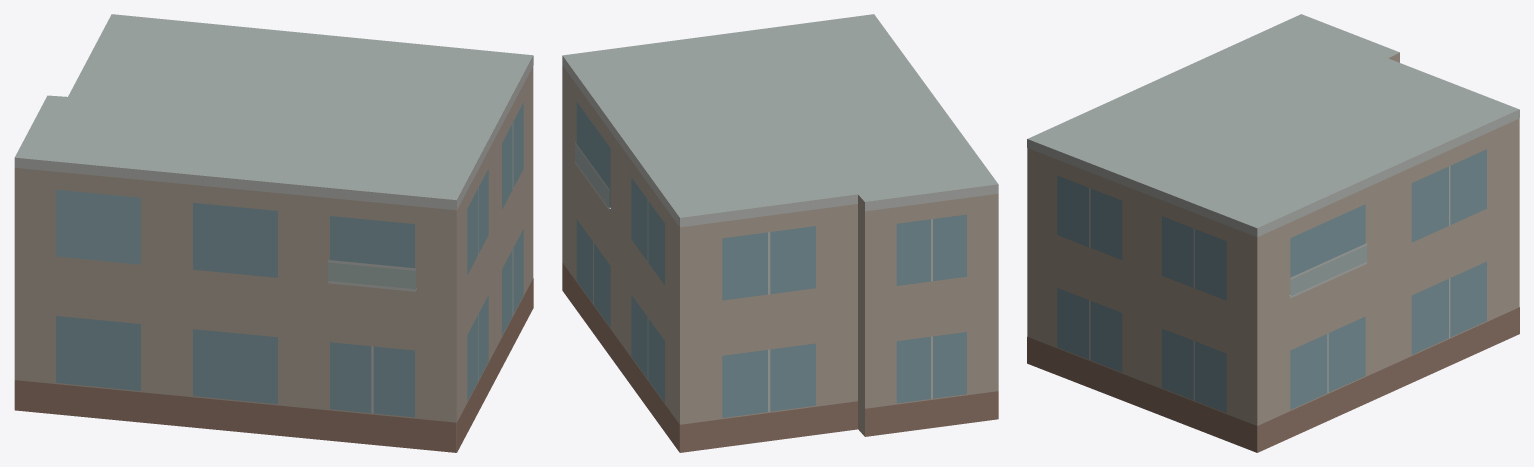
Rendered from survey-upis-32712525.glb.
3 renders of one model, left to right at view 1: azimuth 30°, elevation 25°; view 2: azimuth 150°, elevation 25°; view 3: azimuth 270°, elevation 25°, orthographic. The views are drawn at different scales.
Visible parts, largest first — view 1: survey-upis-32712525.tmp; view 2: survey-upis-32712525.tmp; view 3: survey-upis-32712525.tmp.
Part boxes in pixels (x1,y1,x2,y2): survey-upis-32712525.tmp: (14, 14, 533, 452); survey-upis-32712525.tmp: (562, 14, 998, 452); survey-upis-32712525.tmp: (1027, 14, 1519, 452).
Size of the model in its own units: 12.49 by 6.1 by 12.13.
